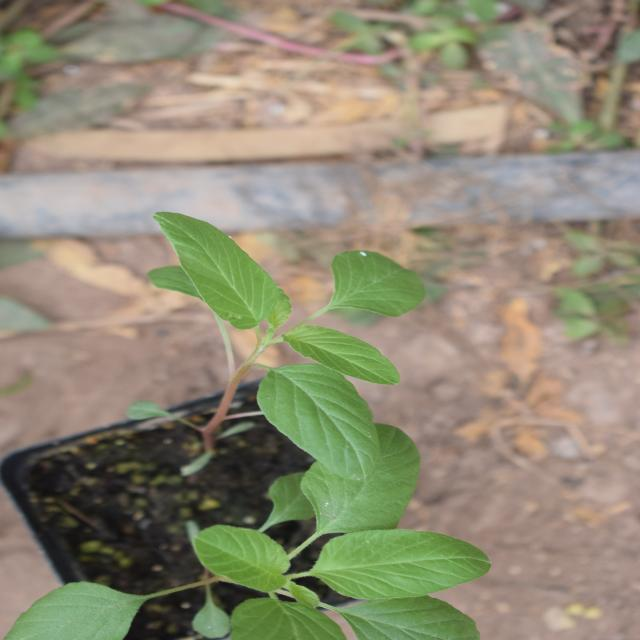pigweed: (192, 148, 417, 442), (0, 149, 191, 478)
